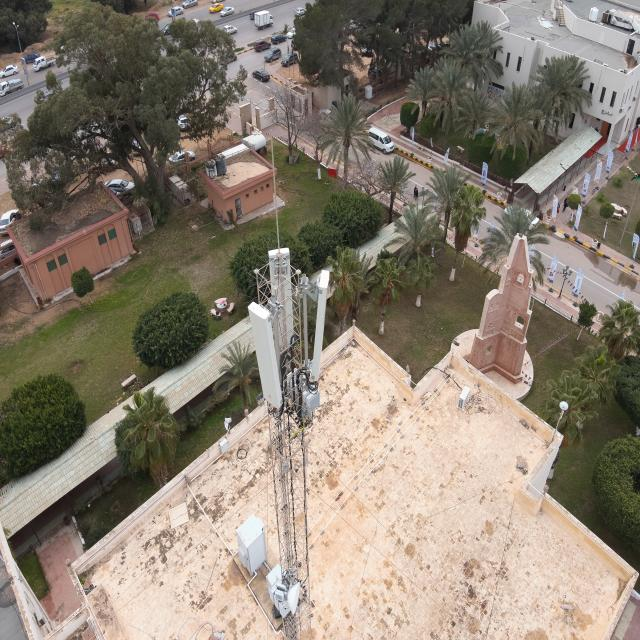antenna: (248, 301, 284, 412), (267, 248, 295, 348), (310, 268, 330, 382)
lighnig-rad: (270, 126, 280, 256)
microware-dish: (276, 581, 302, 615)
power-box: (267, 577, 292, 619)
radio-unit: (284, 366, 321, 415)
